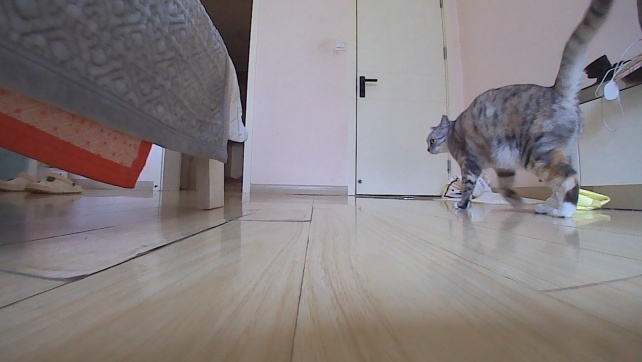bed1: (0, 0, 250, 211)
cat: (426, 0, 614, 219)
door_anno: (345, 0, 457, 201)
shoe: (21, 170, 85, 195), (0, 170, 37, 192)
wire: (593, 36, 641, 132)
